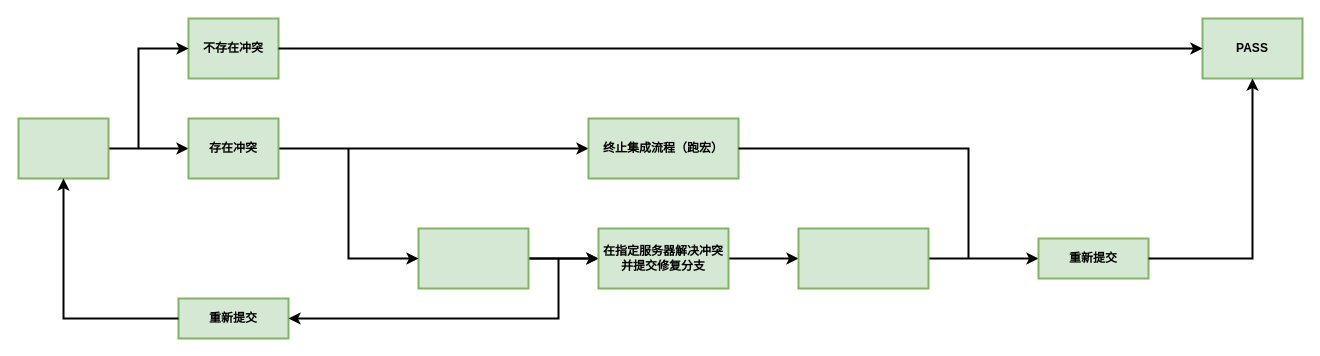
This 1320x356 diagram has some shape labels left out. Each missing label, with the centre of its shape:
"MCD工具" belongs at (63,148).
"RB上 robot “ship it”" belongs at (863,258).
"RB上获得反馈" belongs at (473,258).
